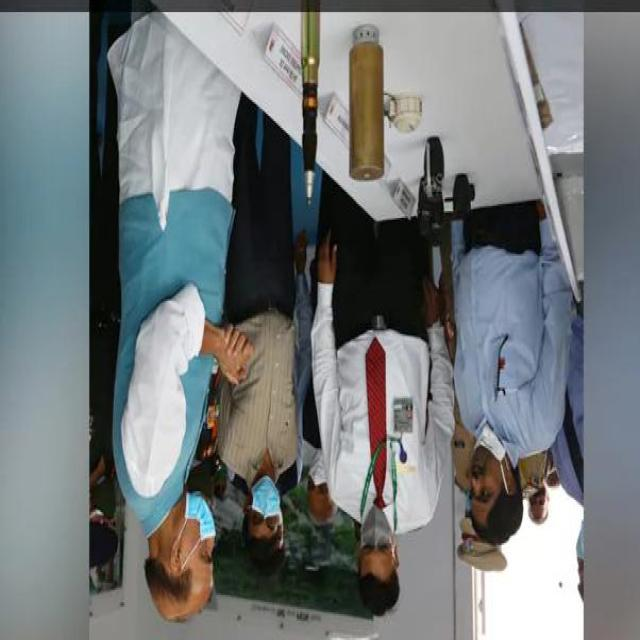grenade: (422, 136, 446, 205)
